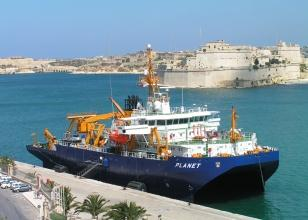otherboat: (24, 42, 280, 202)
